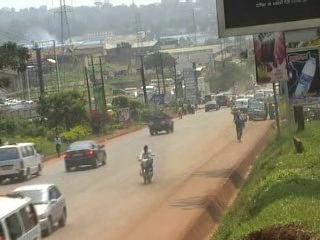Car: (5, 182, 69, 235), (62, 137, 109, 172), (203, 99, 220, 113)
Motorcycle: (136, 154, 156, 185)
